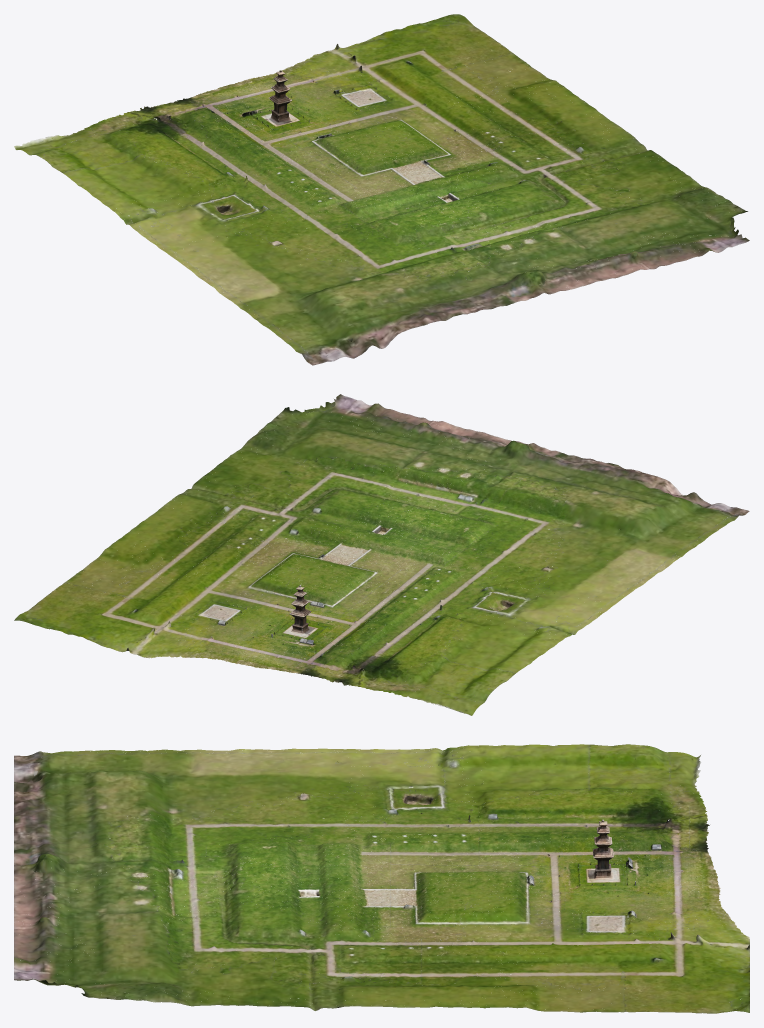
The model's file is wolnam.glb.
The picture shows the model from 3 angles, top to bottom: view 1: azimuth 30°, elevation 25°; view 2: azimuth 150°, elevation 25°; view 3: azimuth 270°, elevation 25°; orthographic projection. The views are drawn at different scales.
Visible parts, largest first — view 1: object 2, object 3, object 4, MeshTransform, object 5, object 6; view 2: object 2, object 3, object 4, MeshTransform, object 5, object 6; view 3: object 2, object 3, object 4, MeshTransform, object 5, object 6.
Part boxes in pixels (x1=…): object 2: x1=153, y1=53, x2=749, y2=363; object 3: x1=341, y1=81, x2=742, y2=293; object 4: x1=111, y1=14, x2=564, y2=252; MeshTransform: x1=14, y1=81, x2=489, y2=365; object 5: x1=227, y1=62, x2=375, y2=163; object 6: x1=208, y1=88, x2=285, y2=140; object 2: x1=65, y1=394, x2=740, y2=615; object 3: x1=120, y1=397, x2=522, y2=587; object 4: x1=14, y1=519, x2=608, y2=658; MeshTransform: x1=235, y1=509, x2=749, y2=715; object 5: x1=172, y1=583, x2=399, y2=667; object 6: x1=280, y1=601, x2=370, y2=659; object 2: x1=14, y1=748, x2=625, y2=1012; object 3: x1=14, y1=859, x2=562, y2=1008; object 4: x1=334, y1=745, x2=749, y2=1013; MeshTransform: x1=14, y1=744, x2=718, y2=935; object 5: x1=488, y1=819, x2=735, y2=925; object 6: x1=563, y1=837, x2=675, y2=873.
Size of the model in its own units: 77.16 by 8.97 by 91.73.
1 material, 1 textured.
